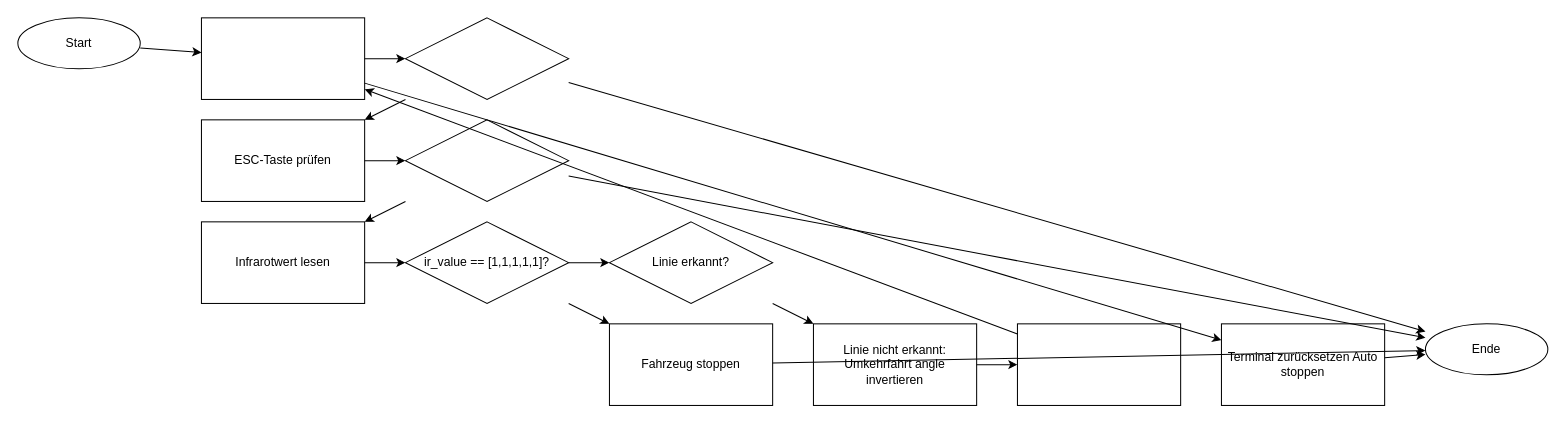
This 1566x423 diagram has some shape labels left out. The centre of each missing label's shape, as x and y in pixels:
Daten loggen: (x=1098, y=364)
ESC-Taste gedrückt?: (x=486, y=160)
Zeitlimit erreicht?: (x=486, y=58)
Zeitlimit prüfen (120 Sekunden): (x=282, y=58)
